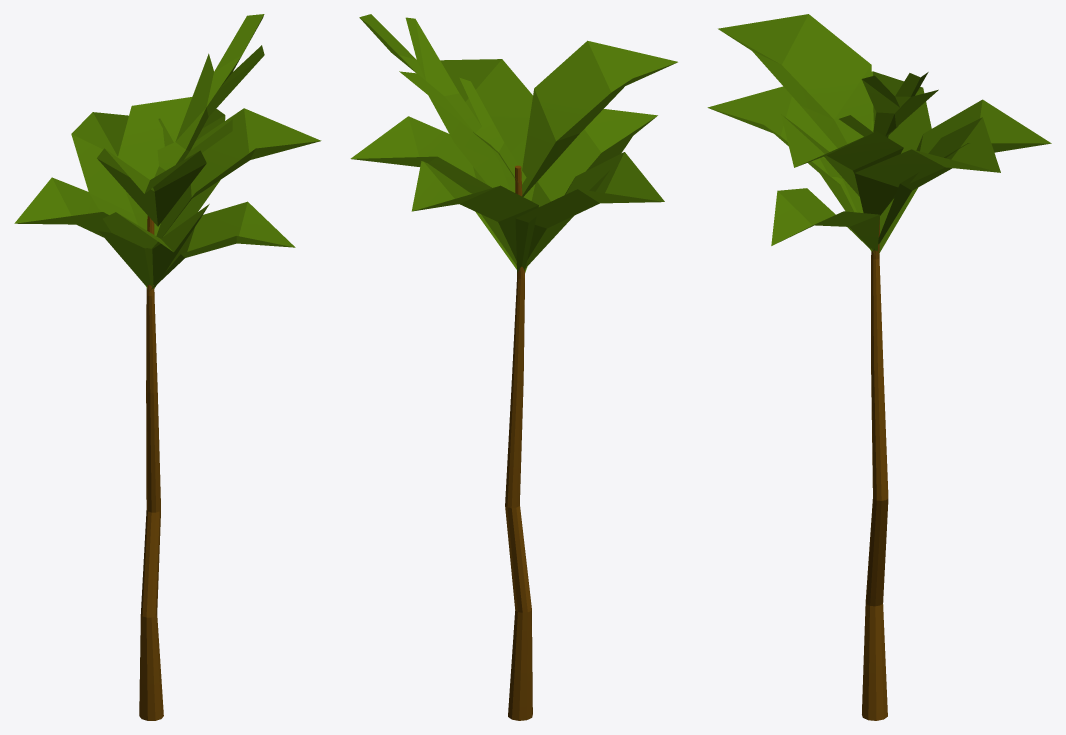
The model's file is tree_level_1.glb.
3 renders of one model, left to right at view 1: azimuth 30°, elevation 25°; view 2: azimuth 150°, elevation 25°; view 3: azimuth 270°, elevation 25°, orthographic. The views are drawn at different scales.
Visible parts, largest first — view 1: tree_level_1; view 2: tree_level_1; view 3: tree_level_1.
Part boxes in pixels (bbox=[...]): tree_level_1: bbox=[14, 14, 321, 720]; tree_level_1: bbox=[350, 14, 677, 720]; tree_level_1: bbox=[707, 14, 1051, 720].
Bounding box in the file's own units: 0.7454 × 1.71 × 0.7543.
1 material, 1 textured.
